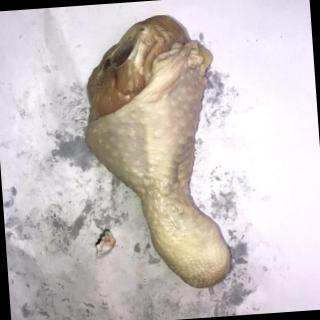Ayam: (76, 11, 234, 296)
